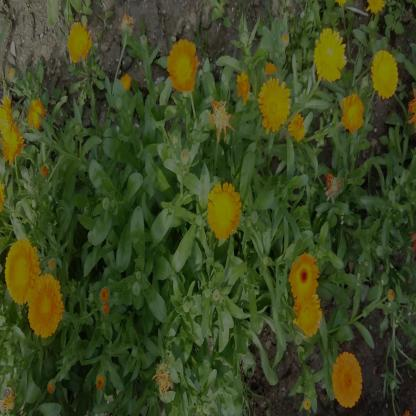marigold: (5, 240, 38, 305), (29, 279, 62, 337), (208, 181, 240, 238), (334, 352, 362, 408), (254, 57, 285, 107), (167, 40, 196, 93), (316, 29, 346, 80), (258, 80, 289, 126), (373, 50, 398, 98), (293, 259, 318, 304), (233, 59, 254, 107), (297, 292, 322, 332), (0, 124, 26, 162), (342, 92, 366, 131), (67, 25, 92, 61), (26, 94, 46, 132), (286, 106, 306, 142), (0, 93, 13, 136)
